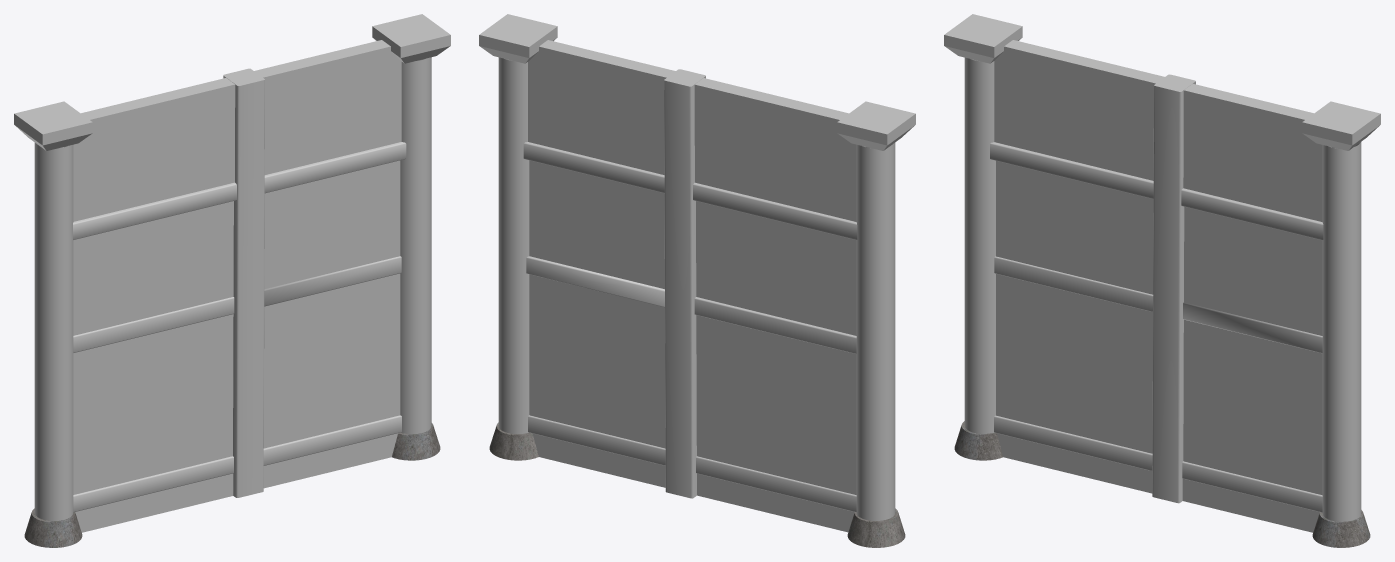
The model's file is SM_Building_Wall_17.FBX.
3 renders of one model, left to right at view 1: azimuth 30°, elevation 25°; view 2: azimuth 150°, elevation 25°; view 3: azimuth 330°, elevation 25°, orthographic.
Visible parts, largest first — view 1: SM_Building_Wall_17; view 2: SM_Building_Wall_17; view 3: SM_Building_Wall_17.
Part boxes in pixels (x1=…): SM_Building_Wall_17: x1=14, y1=14, x2=450, y2=547; SM_Building_Wall_17: x1=479, y1=14, x2=915, y2=547; SM_Building_Wall_17: x1=944, y1=14, x2=1380, y2=547.
Size of the model in its own units: 622 by 609 by 76.47.
